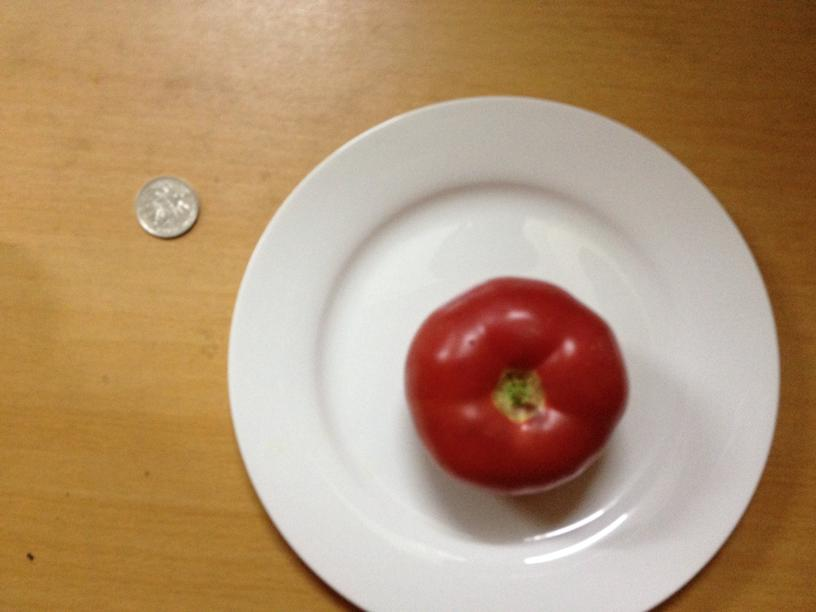coin: (132, 177, 201, 236)
tomato: (395, 277, 632, 493)
